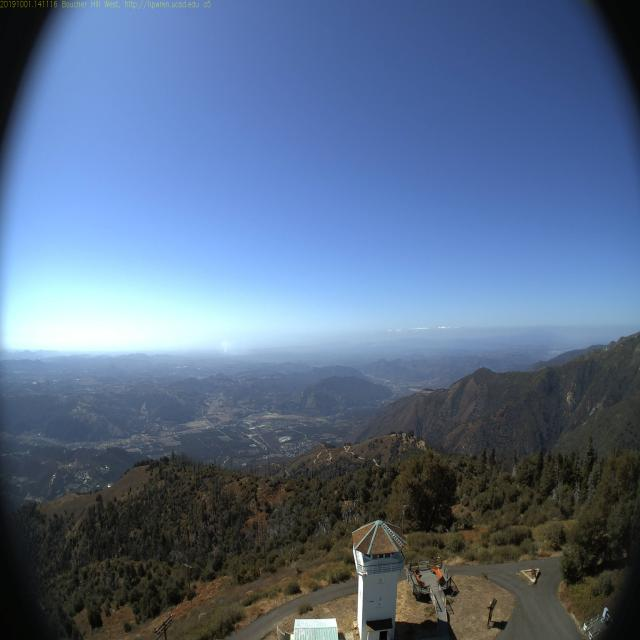smoke: (215, 333, 234, 357)
